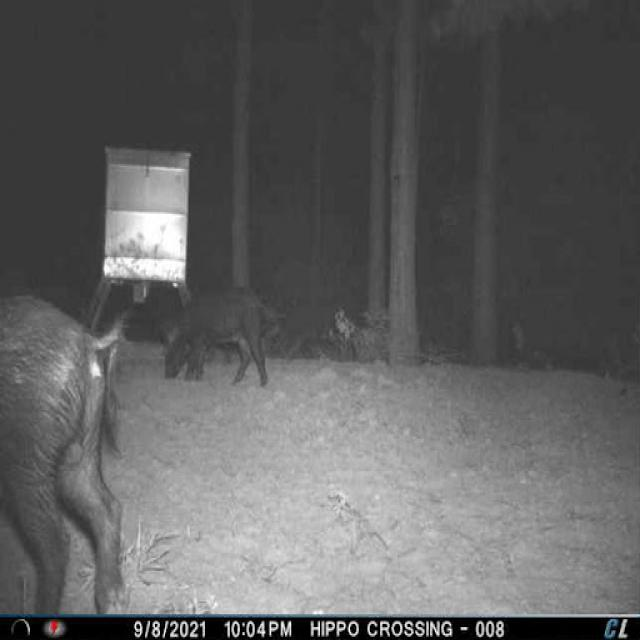wild boar: (0, 285, 135, 611), (158, 285, 284, 392)
